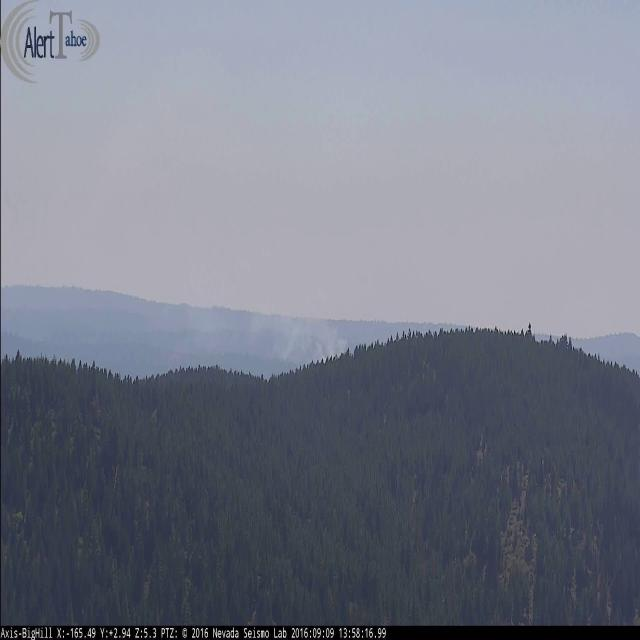smoke: (186, 284, 352, 364)
